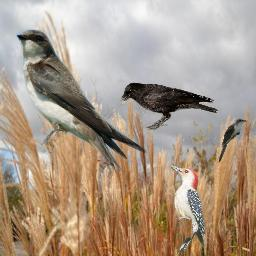Crow: (119, 82, 218, 130)
Cuckoo: (217, 118, 247, 163)
Swallow: (16, 29, 147, 173)
Woodpecker: (168, 164, 205, 256)
